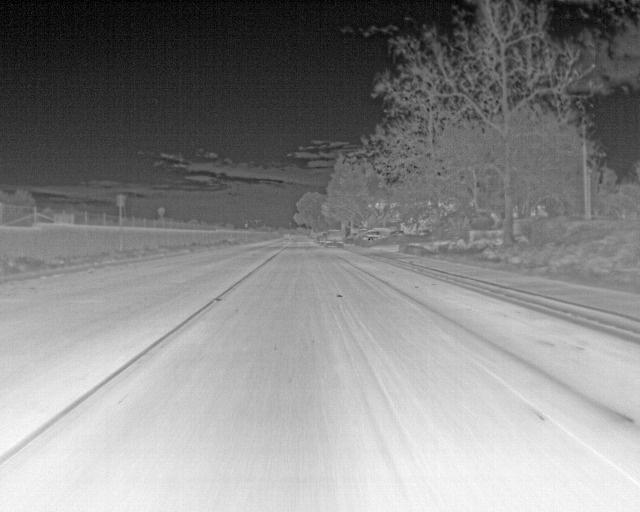car: (322, 227, 343, 248), (365, 224, 387, 240)
